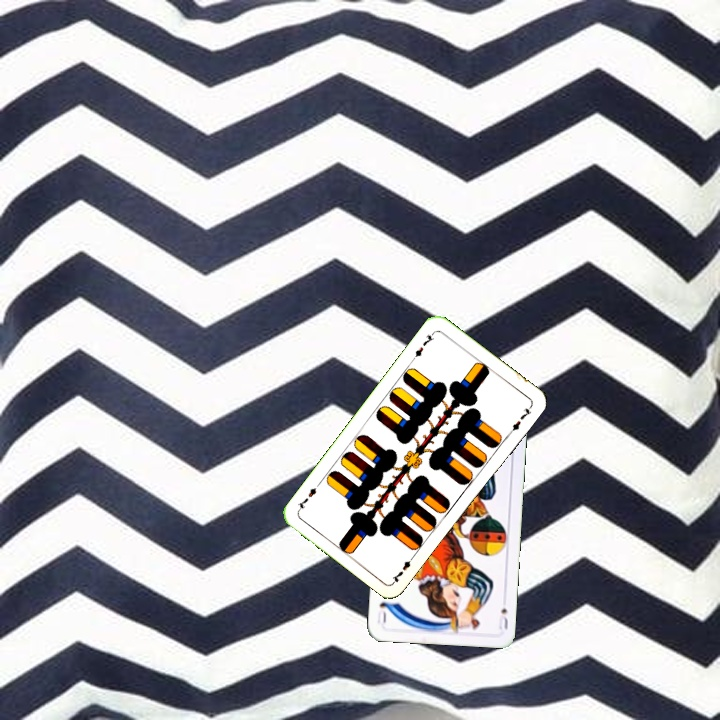E7: (388, 550, 418, 585), (409, 328, 437, 363)
SU: (494, 604, 511, 632)
